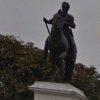Statue: (28, 2, 81, 78)
